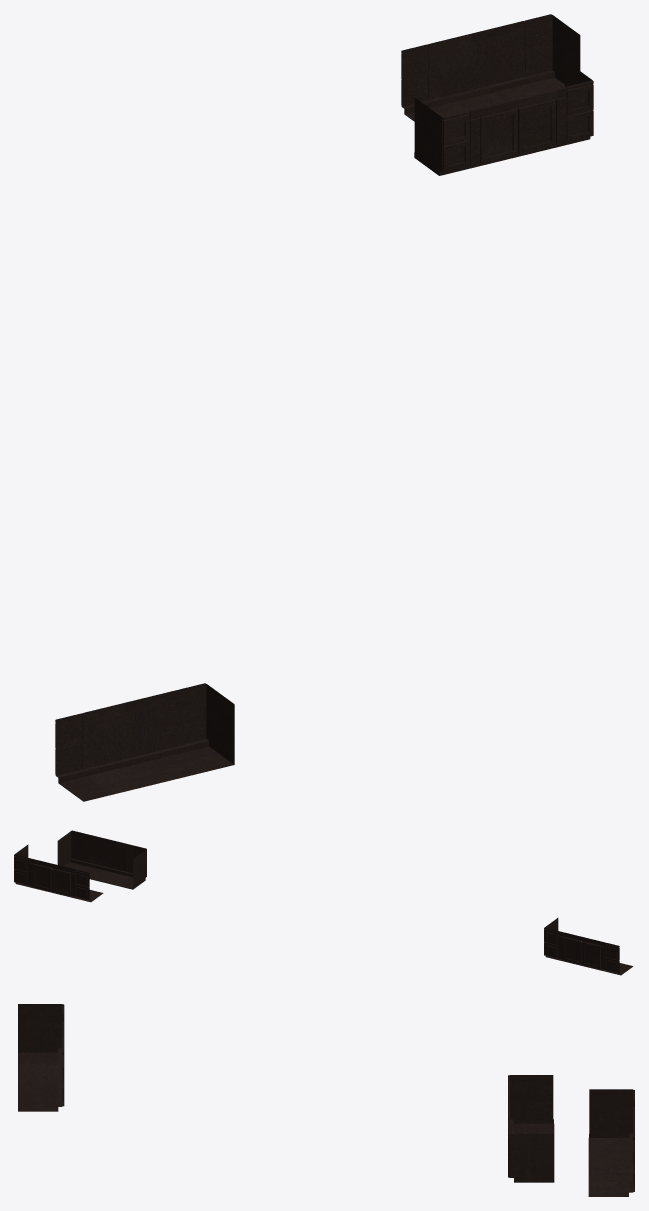
File: Cabinets_Epresso_.glb
3 renders of one model, top to bottom at view 1: azimuth 30°, elevation 25°; view 2: azimuth 150°, elevation 25°; view 3: azimuth 270°, elevation 25°, orthographic. The views are drawn at different scales.
Visible parts, largest first — view 1: Bathroom_Cabinet_Espresso_2345; view 2: Bathroom_Cabinet_Espresso_2345; view 3: Bathroom_Cabinet_Espresso_2345.
Boxes of the visible parts, left/top/right/bottom form: Bathroom_Cabinet_Espresso_2345: left=55, top=14, right=593, bottom=801; Bathroom_Cabinet_Espresso_2345: left=14, top=830, right=633, bottom=975; Bathroom_Cabinet_Espresso_2345: left=18, top=1004, right=634, bottom=1196.
Size of the model in its own units: 16.16 by 5.37 by 12.73.
1 material, 1 textured.
